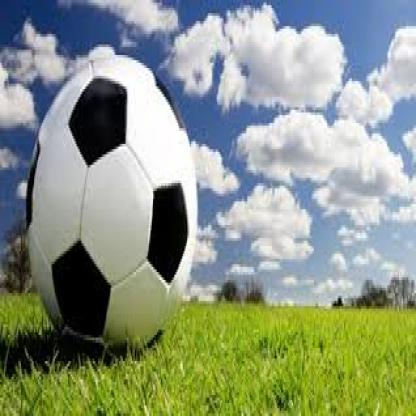ball: (25, 54, 198, 354)
